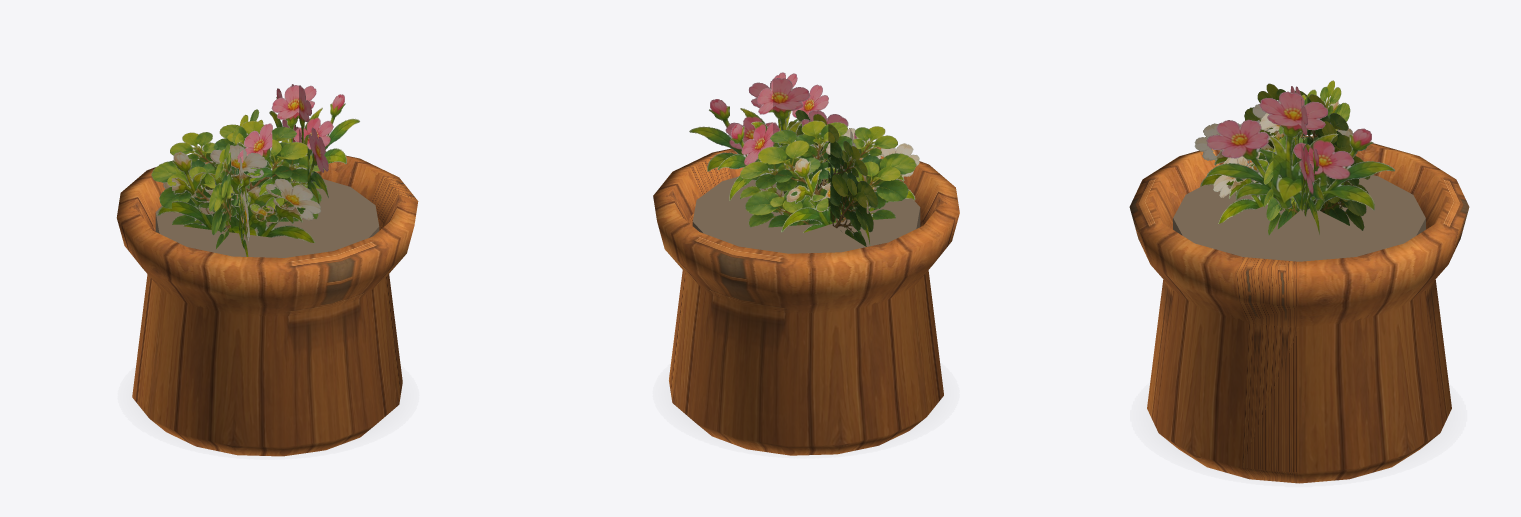
File: planter-small.glb
3 views of the same model, side by side, from view 1: azimuth 30°, elevation 25°; view 2: azimuth 150°, elevation 25°; view 3: azimuth 270°, elevation 25° (orthographic). The views are drawn at different scales.
Parts seen in each view (by area): view 1: pot, soil, leafcard.001, leafcard, leafcard.003, leafcard.002, leafcard.004, leafcard.005; view 2: pot, leafcard.002, soil, leafcard.001, leafcard.003, leafcard.004, leafcard.005; view 3: pot, soil, leafcard.004, leafcard.002, leafcard.001, leafcard, leafcard.003, leafcard.005.
Part boxes in pixels (box(x1,y1,x2,y2)): pot: box(116, 151, 418, 456); soil: box(155, 179, 379, 257); leafcard.001: box(151, 120, 327, 224); leafcard: box(157, 145, 320, 242); leafcard.003: box(237, 85, 359, 195); leafcard.002: box(208, 109, 263, 248); leafcard.004: box(269, 84, 328, 204); leafcard.005: box(235, 142, 249, 256); pot: box(653, 147, 959, 455); leafcard.002: box(740, 120, 916, 227); soil: box(692, 177, 920, 253); leafcard.001: box(783, 110, 878, 246); leafcard.003: box(689, 78, 856, 183); leafcard.004: box(717, 72, 828, 201); leafcard.005: box(781, 128, 919, 232); pot: box(1129, 135, 1469, 483); soil: box(1173, 170, 1425, 261); leafcard.004: box(1206, 91, 1395, 210); leafcard.002: box(1244, 83, 1370, 230); leafcard.001: box(1263, 80, 1350, 235); leafcard: box(1213, 98, 1339, 223); leafcard.003: box(1279, 86, 1324, 234); leafcard.005: box(1194, 100, 1354, 208).
Bounding box in the file's own units: 0.589 × 0.605 × 0.589.
Materials: 6 (5 with a texture image).
